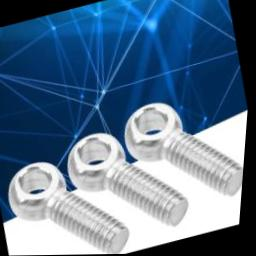Non-corroded-Bolts: (69, 134, 192, 228), (11, 163, 134, 255), (126, 104, 246, 198)
